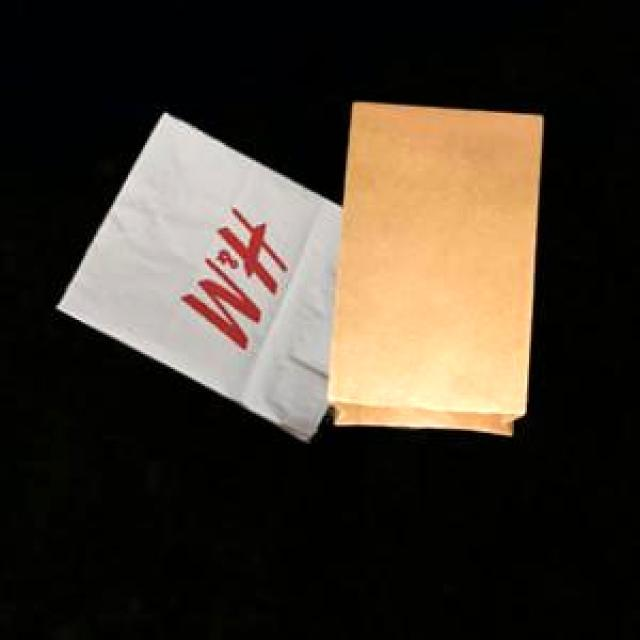Paper_Bag: (54, 110, 340, 438), (326, 99, 538, 432)
